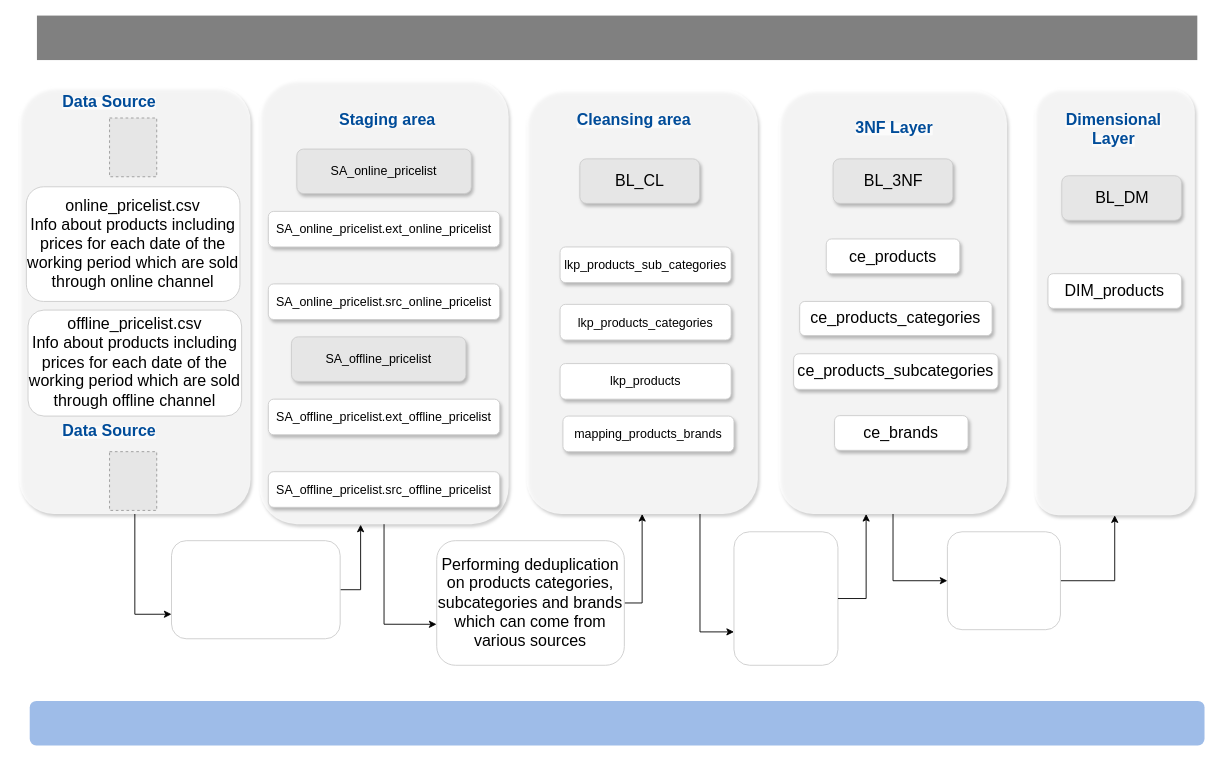
This 1219x760 diagram has some shape labels left out. Grey dashed boxes stand in for pictures. Each missing label, with the centre of its shape:
"Data Flow Diagram of DIM_products dimension" goes at (616,37).
"Loading data into staging area of DWH" goes at (255,589).
"Loading data to BL_3NF Layer, generation of surrogate keys" goes at (785,598).
"Loading data to BL_DM Layer, generation of surrogate keys" goes at (1003,580).
"METADATA" goes at (616,722).
